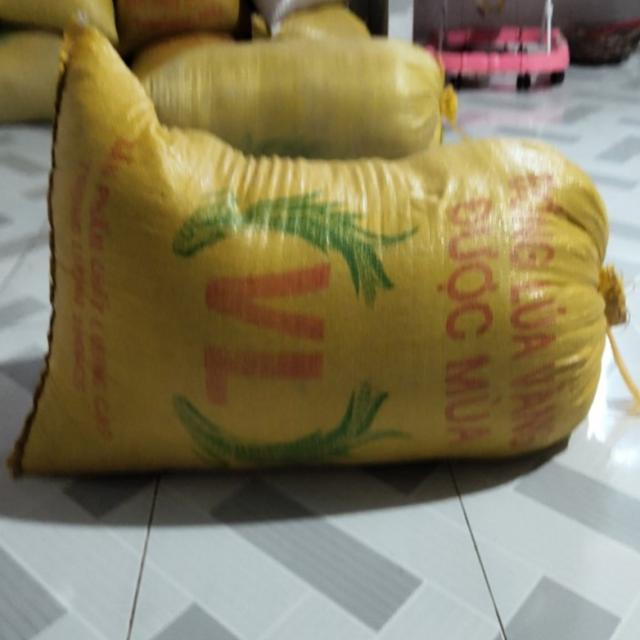gunny_bag: (8, 27, 610, 475), (142, 35, 444, 158)
